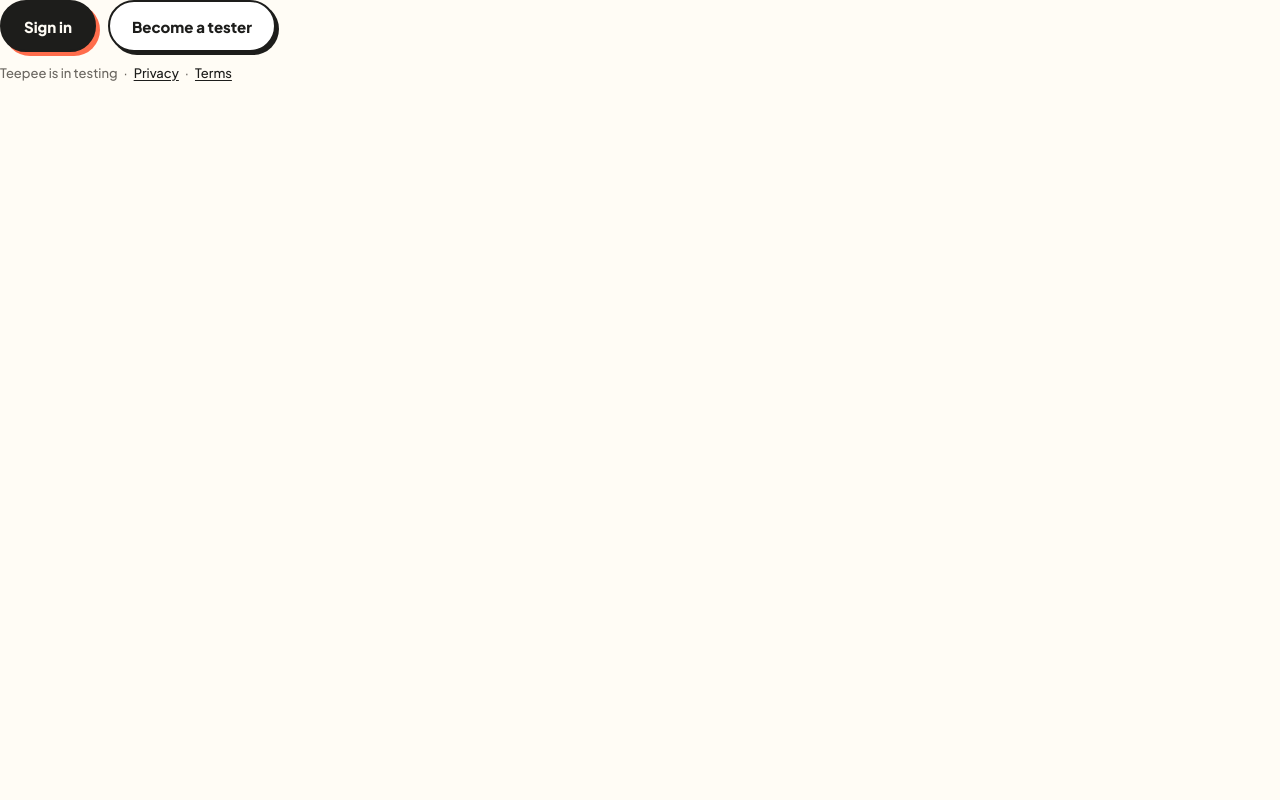
Sign in panel (spec collage §1.1) › Become a tester opens 'Want to test it?' with the request line; Close closes it
Click the button "Become a tester". click: (192, 26)
box: [108,0,276,52]
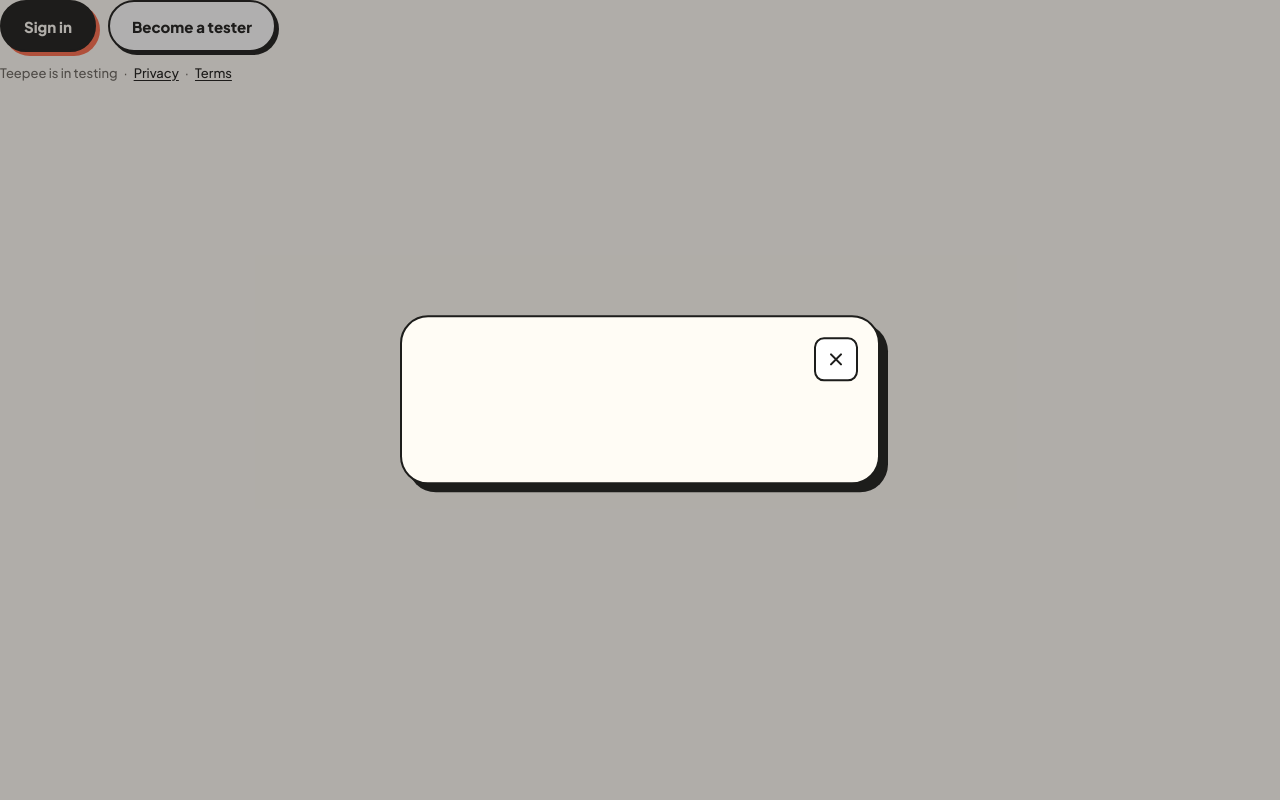
Click the button named "Close". click: (836, 359)
box: [814,337,858,381]
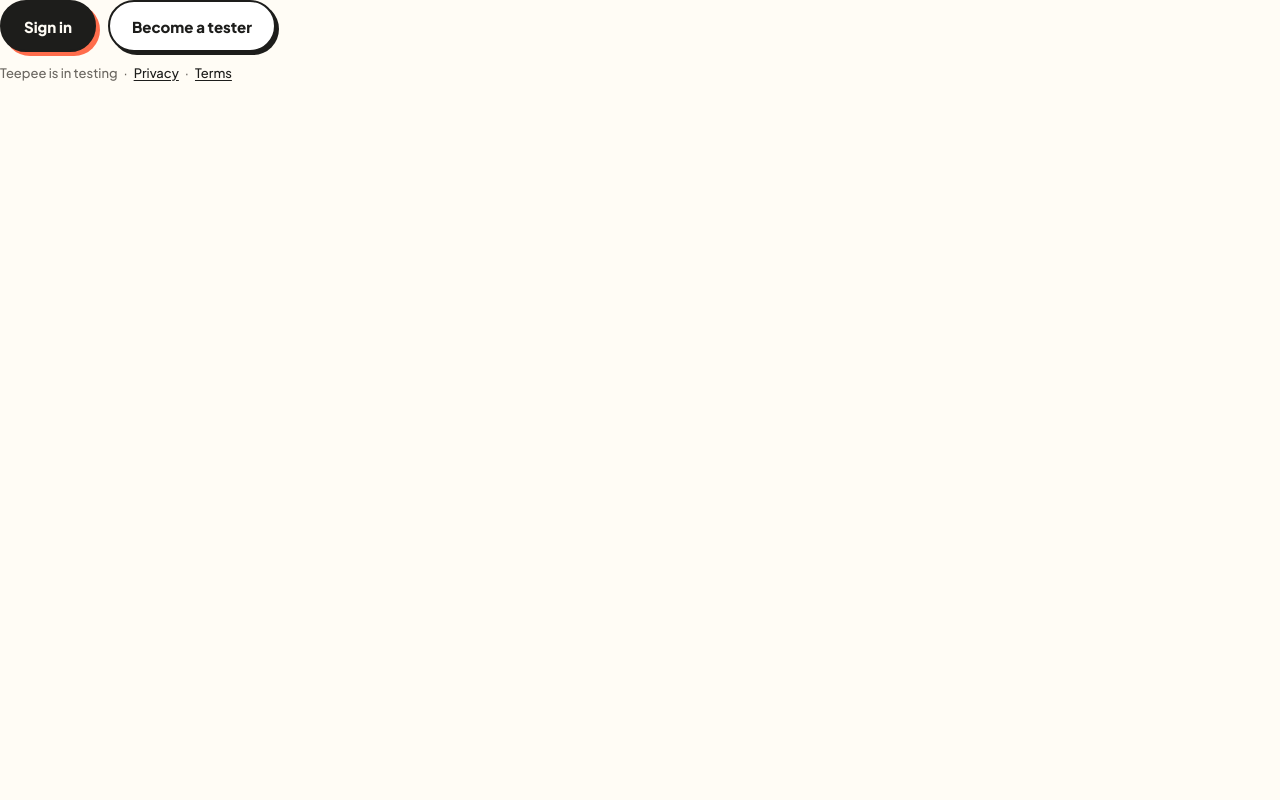
Now the dialog is gone
